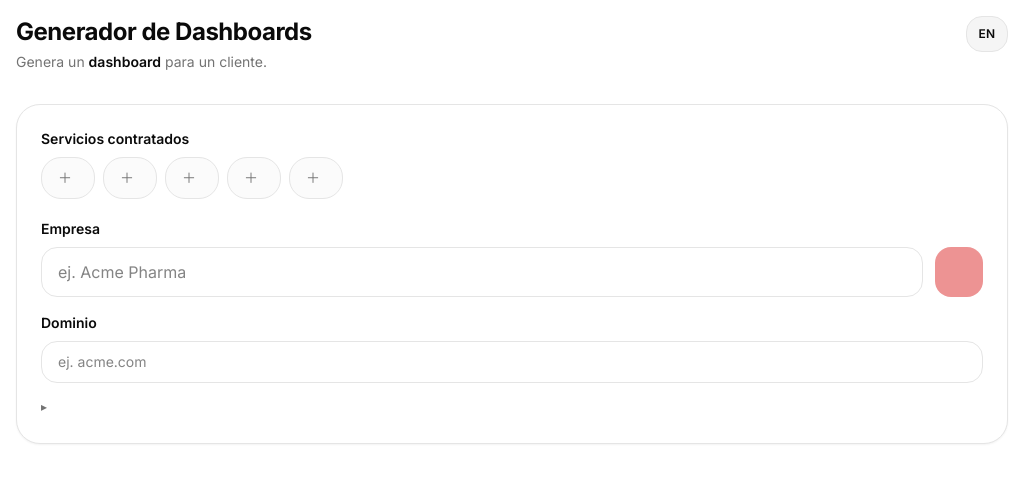
it: Dashboard Builder page — company picker › filters the dropdown as the manager types
Focus the field with placeholder "ej. Acme Pharma": {"x": 482, "y": 272} [41,247,923,297]
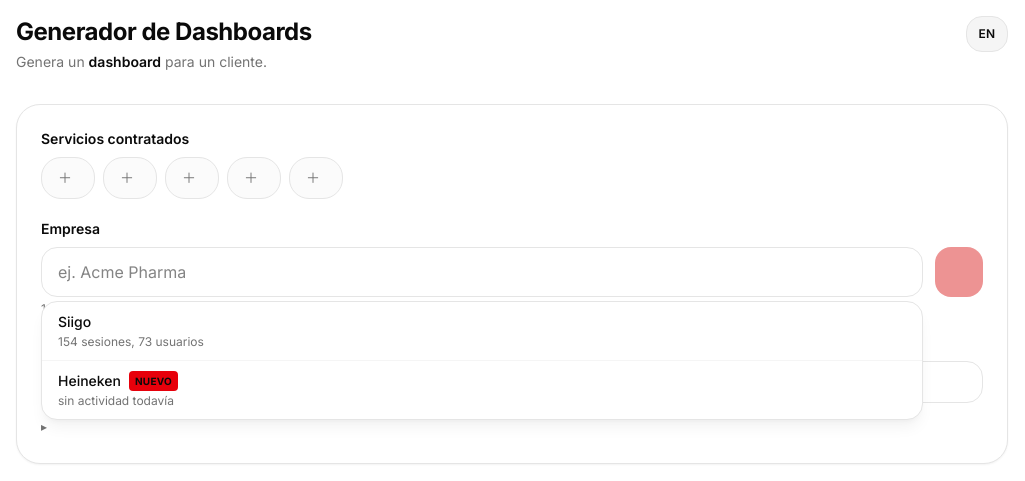
Now the text "Heineken" is shown, box [58,371,121,391]
In the field with placeholder "ej. Acme Pharma": {"x": 482, "y": 272} [41,247,923,297], type "sii"
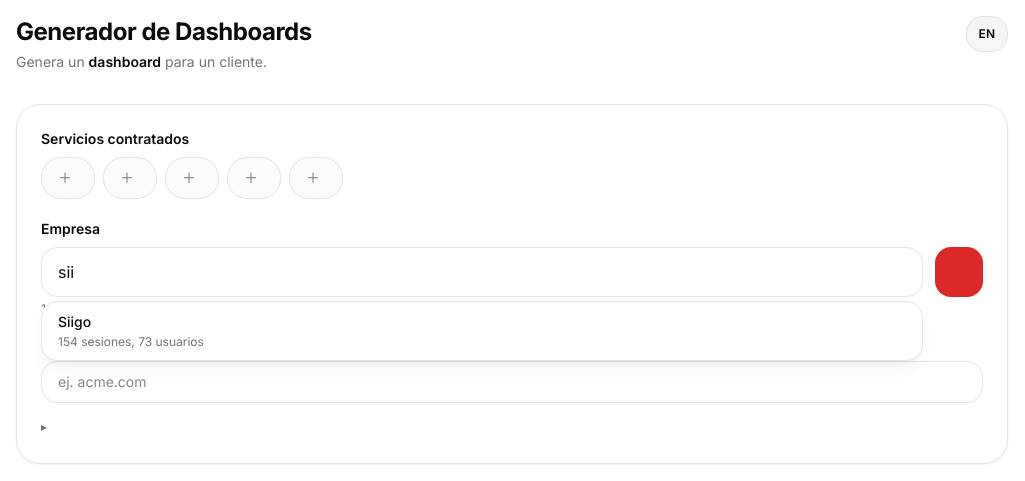
Now the text "Siigo" is shown, box [58,312,91,332]
Now the button "Heineken" is gone
